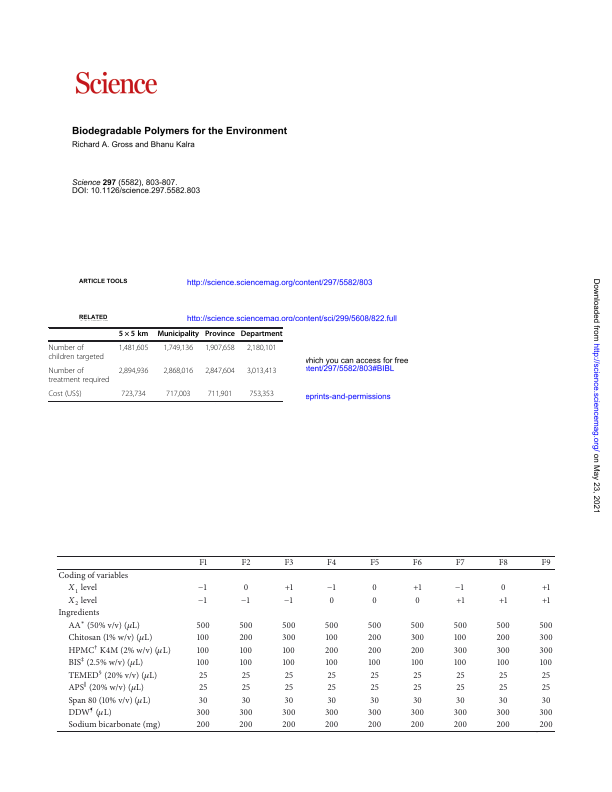borderless: (55, 554, 555, 731), (47, 326, 283, 401)
cell: (67, 641, 172, 658), (67, 667, 158, 683), (67, 630, 153, 645), (67, 692, 152, 707), (67, 679, 145, 695), (67, 654, 144, 670), (67, 617, 141, 633), (48, 366, 110, 384), (67, 720, 161, 731), (48, 343, 105, 361), (67, 704, 113, 720), (57, 571, 129, 581), (67, 592, 98, 609), (67, 580, 98, 596), (57, 608, 100, 619), (156, 330, 200, 339), (240, 330, 283, 339), (162, 343, 194, 353), (204, 343, 236, 353), (48, 389, 83, 398), (118, 343, 149, 353), (246, 343, 277, 353), (204, 330, 236, 339), (162, 366, 194, 375), (204, 366, 236, 375), (118, 330, 149, 339), (118, 366, 149, 375), (246, 366, 277, 375), (120, 389, 147, 398), (248, 389, 275, 398), (165, 389, 191, 398), (207, 389, 233, 398), (197, 592, 209, 608), (240, 592, 252, 608), (283, 592, 295, 608), (197, 580, 209, 595), (326, 580, 338, 595), (238, 633, 254, 644), (238, 720, 254, 731), (455, 580, 466, 595), (281, 633, 296, 644), (367, 633, 382, 644), (410, 633, 425, 644), (496, 633, 511, 644), (539, 633, 554, 644), (324, 645, 339, 656), (367, 645, 382, 656), (410, 645, 425, 656), (453, 645, 468, 656), (496, 645, 511, 656), (539, 645, 554, 656), (196, 720, 211, 731), (281, 720, 296, 731), (324, 720, 339, 731), (367, 720, 382, 731), (410, 720, 425, 731), (453, 720, 468, 731), (496, 720, 511, 731), (539, 720, 554, 731), (238, 621, 254, 631), (238, 708, 254, 718), (196, 633, 210, 644), (325, 633, 339, 644), (453, 633, 467, 644), (196, 645, 210, 656), (239, 645, 253, 656), (282, 645, 296, 656), (196, 658, 210, 669), (239, 658, 253, 669), (282, 658, 296, 669), (325, 658, 339, 669), (368, 658, 382, 669), (410, 658, 424, 669), (453, 658, 467, 669), (496, 658, 510, 669), (539, 658, 553, 669), (196, 621, 211, 631), (281, 621, 296, 631), (324, 621, 339, 631), (367, 621, 382, 631), (410, 621, 425, 631), (453, 621, 468, 631), (496, 621, 511, 631), (539, 621, 554, 631), (196, 708, 211, 718), (281, 708, 296, 718), (324, 708, 339, 718), (367, 708, 382, 718), (410, 708, 425, 718), (453, 708, 468, 718), (496, 708, 511, 718), (539, 708, 554, 718), (283, 558, 294, 569), (326, 558, 337, 569), (369, 558, 380, 569), (412, 558, 423, 569), (455, 558, 466, 569), (498, 558, 509, 569), (541, 558, 552, 569), (412, 583, 423, 594), (369, 670, 380, 681), (412, 670, 423, 681), (455, 670, 466, 681), (326, 695, 337, 706), (369, 695, 380, 706), (412, 695, 423, 706), (455, 695, 466, 706), (198, 558, 208, 569), (241, 558, 251, 569), (284, 583, 294, 594), (541, 583, 551, 594), (198, 670, 208, 681), (241, 670, 251, 681), (284, 670, 294, 681), (327, 670, 337, 681), (498, 670, 508, 681), (541, 670, 551, 681), (369, 683, 380, 693), (412, 683, 423, 693), (455, 683, 466, 693), (198, 695, 208, 706), (241, 695, 251, 706), (284, 695, 294, 706), (498, 695, 508, 706), (541, 695, 551, 706), (455, 596, 465, 606), (498, 596, 508, 606), (541, 596, 551, 606), (198, 683, 208, 693), (241, 683, 251, 693), (284, 683, 294, 693), (327, 683, 337, 693), (498, 683, 508, 693), (541, 683, 551, 693), (371, 583, 378, 594), (371, 596, 378, 606), (414, 596, 421, 606), (243, 583, 249, 594), (500, 583, 506, 594), (329, 596, 335, 606)
